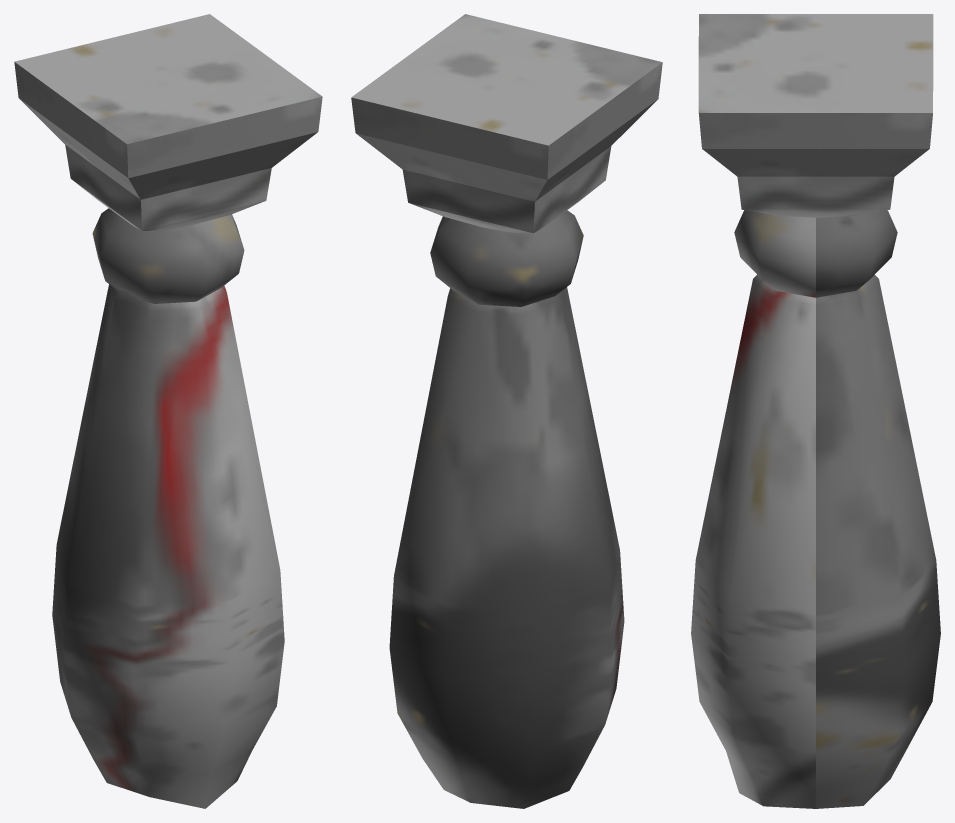
Rendered from Broken_Railing_1_FINAL.fbx.
The picture shows the model from 3 angles, left to right: view 1: azimuth 30°, elevation 25°; view 2: azimuth 150°, elevation 25°; view 3: azimuth 270°, elevation 25°; orthographic projection. The views are drawn at different scales.
Parts seen in each view (by area): view 1: Broken_Railing_1; view 2: Broken_Railing_1; view 3: Broken_Railing_1.
Part boxes in pixels (bbox=[...]): Broken_Railing_1: bbox=[14, 14, 322, 808]; Broken_Railing_1: bbox=[351, 14, 662, 808]; Broken_Railing_1: bbox=[691, 14, 940, 808].
Size of the model in its own units: 13.24 by 42.63 by 13.24.
